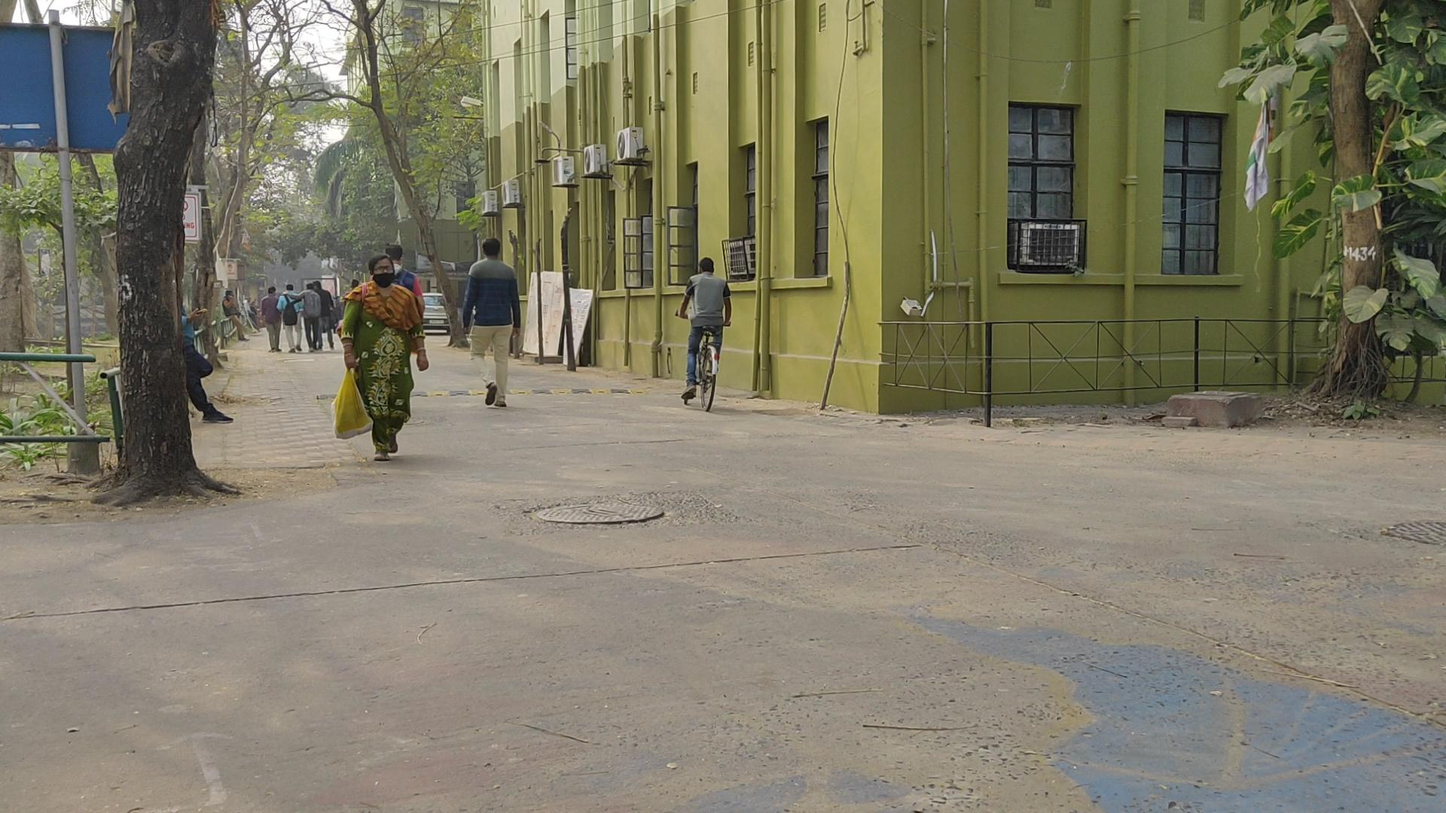bike: (676, 258, 734, 412)
